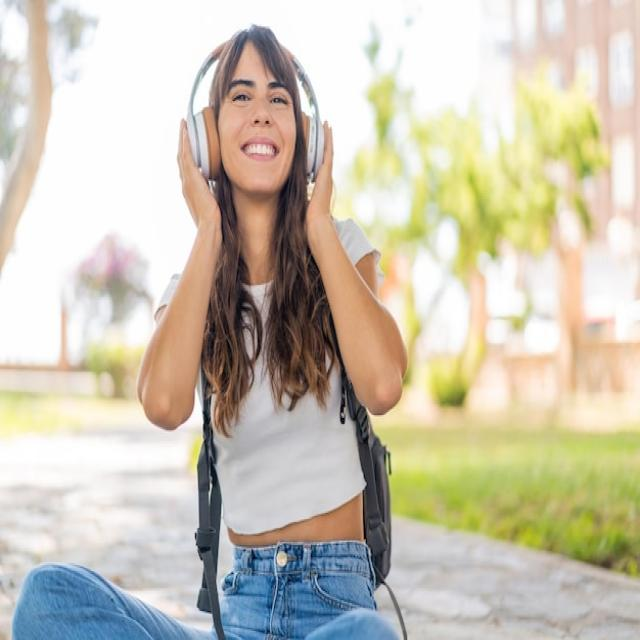Headphone: (186, 33, 326, 180)
